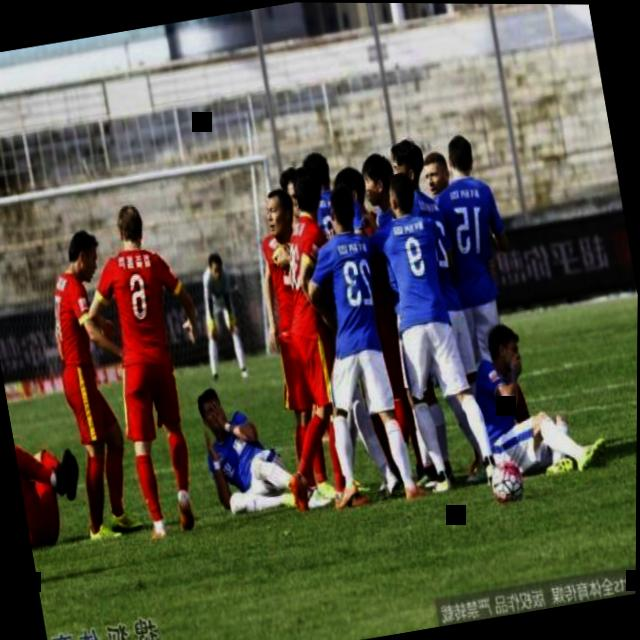Fall-Detected: (6, 390, 96, 567)
